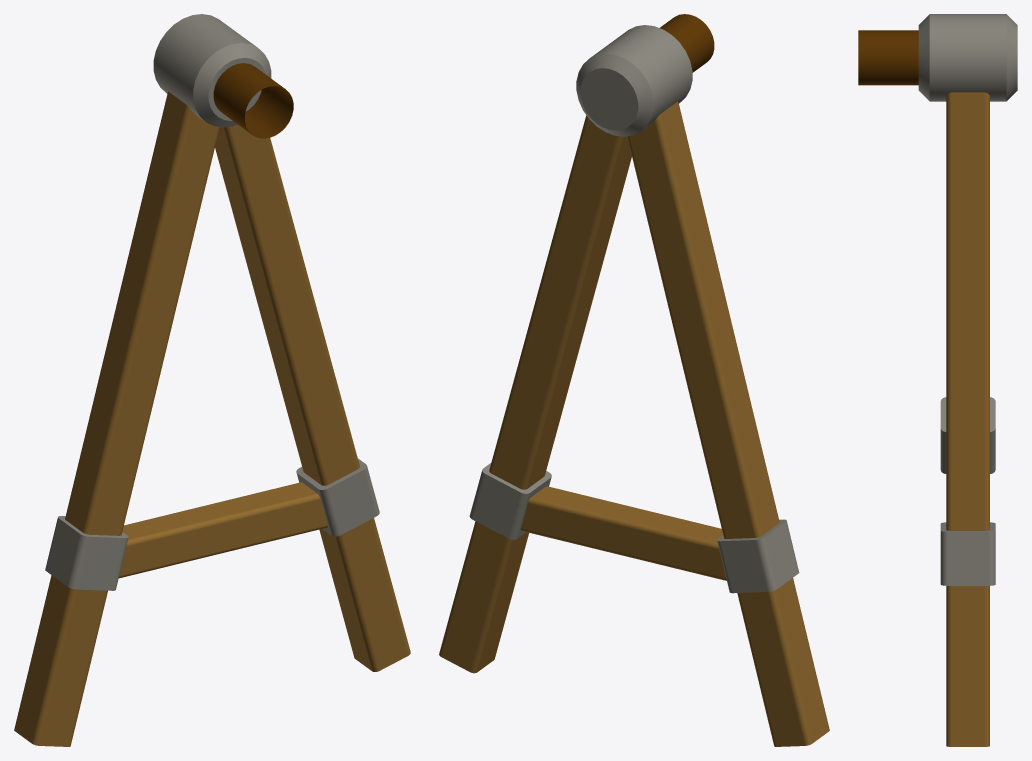
The model's file is Prop_Obstacle_Swinging_Hammer_Structure.obj.
The picture shows the model from 3 angles, left to right: view 1: azimuth 30°, elevation 25°; view 2: azimuth 150°, elevation 25°; view 3: azimuth 270°, elevation 25°; orthographic projection. The views are drawn at different scales.
Visible parts, largest first — view 1: object2, object1; view 2: object2, object1; view 3: object2, object1.
Part boxes in pixels (bbox=[...]): object2: bbox=[14, 14, 410, 746]; object1: bbox=[213, 63, 293, 138]; object2: bbox=[439, 25, 829, 746]; object1: bbox=[660, 14, 714, 72]; object2: bbox=[918, 14, 1017, 746]; object1: bbox=[858, 30, 918, 85].
Size of the model in its own units: 1.92 by 3.27 by 0.725.
